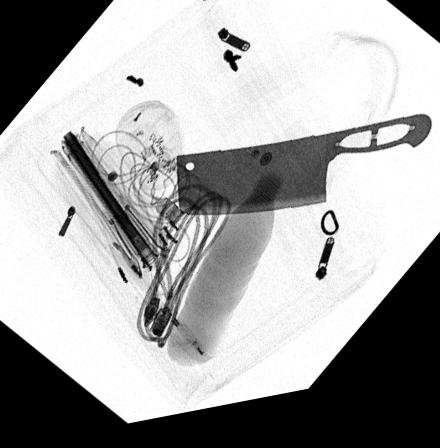Knife: (175, 128, 431, 222)
